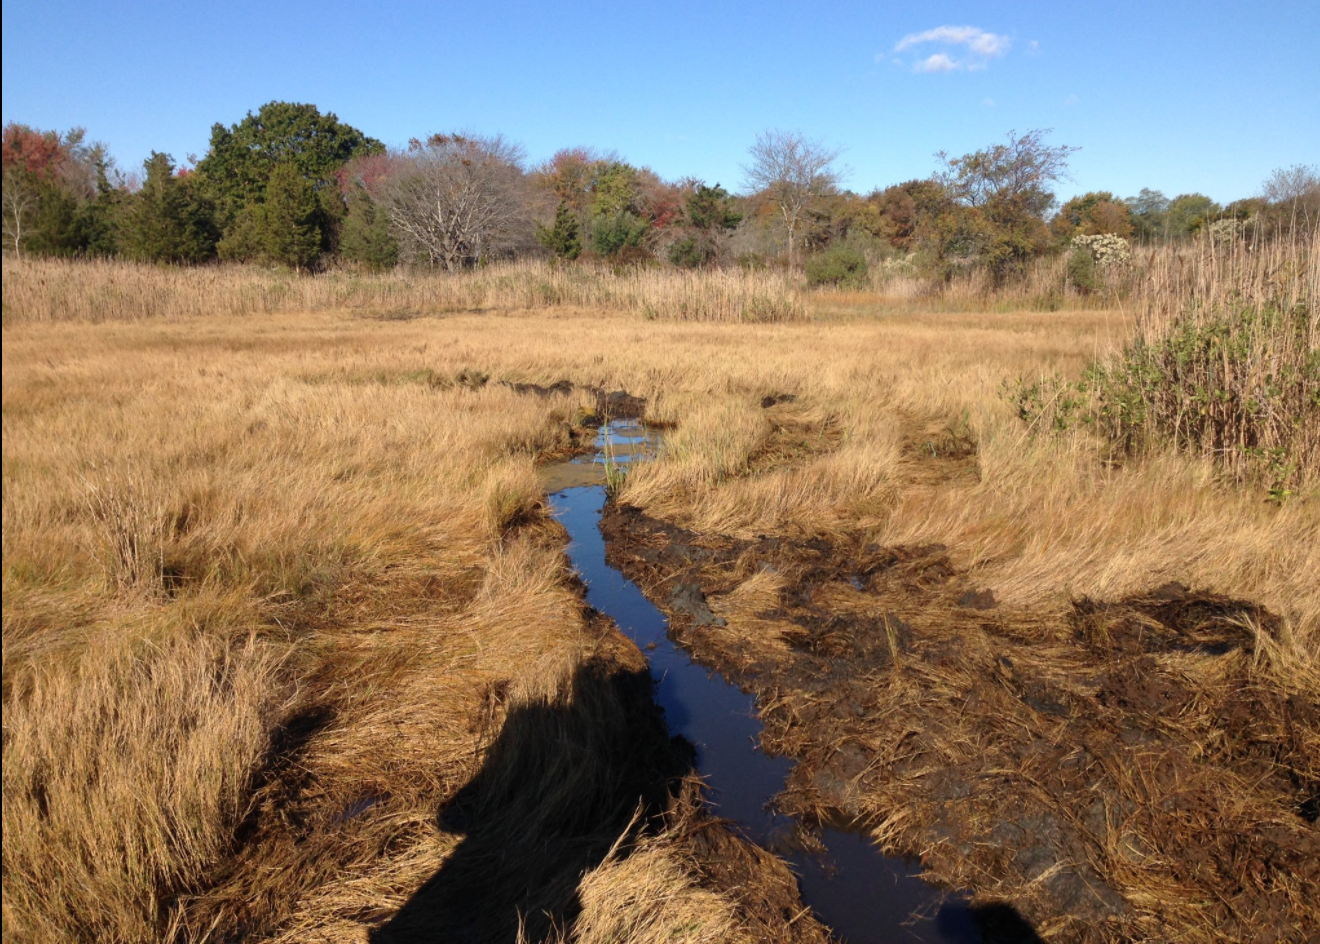sky: (3, 12, 1320, 95)
tree: (171, 98, 374, 290), (358, 151, 540, 281), (1, 143, 99, 252)
water: (362, 625, 1050, 944), (527, 337, 712, 687)
